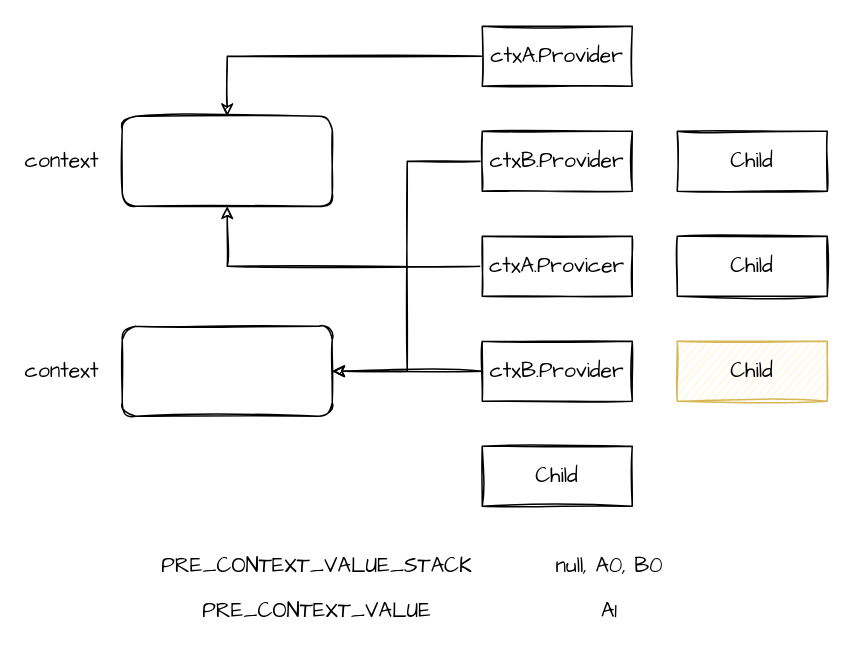
Some shapes in this 854 by 653 pixel diagram are drawn without their labels. Each missing label, with the box of its shape:
_currentValue: A2: (121, 115, 332, 206)
_currentValue: B1: (121, 325, 332, 416)
